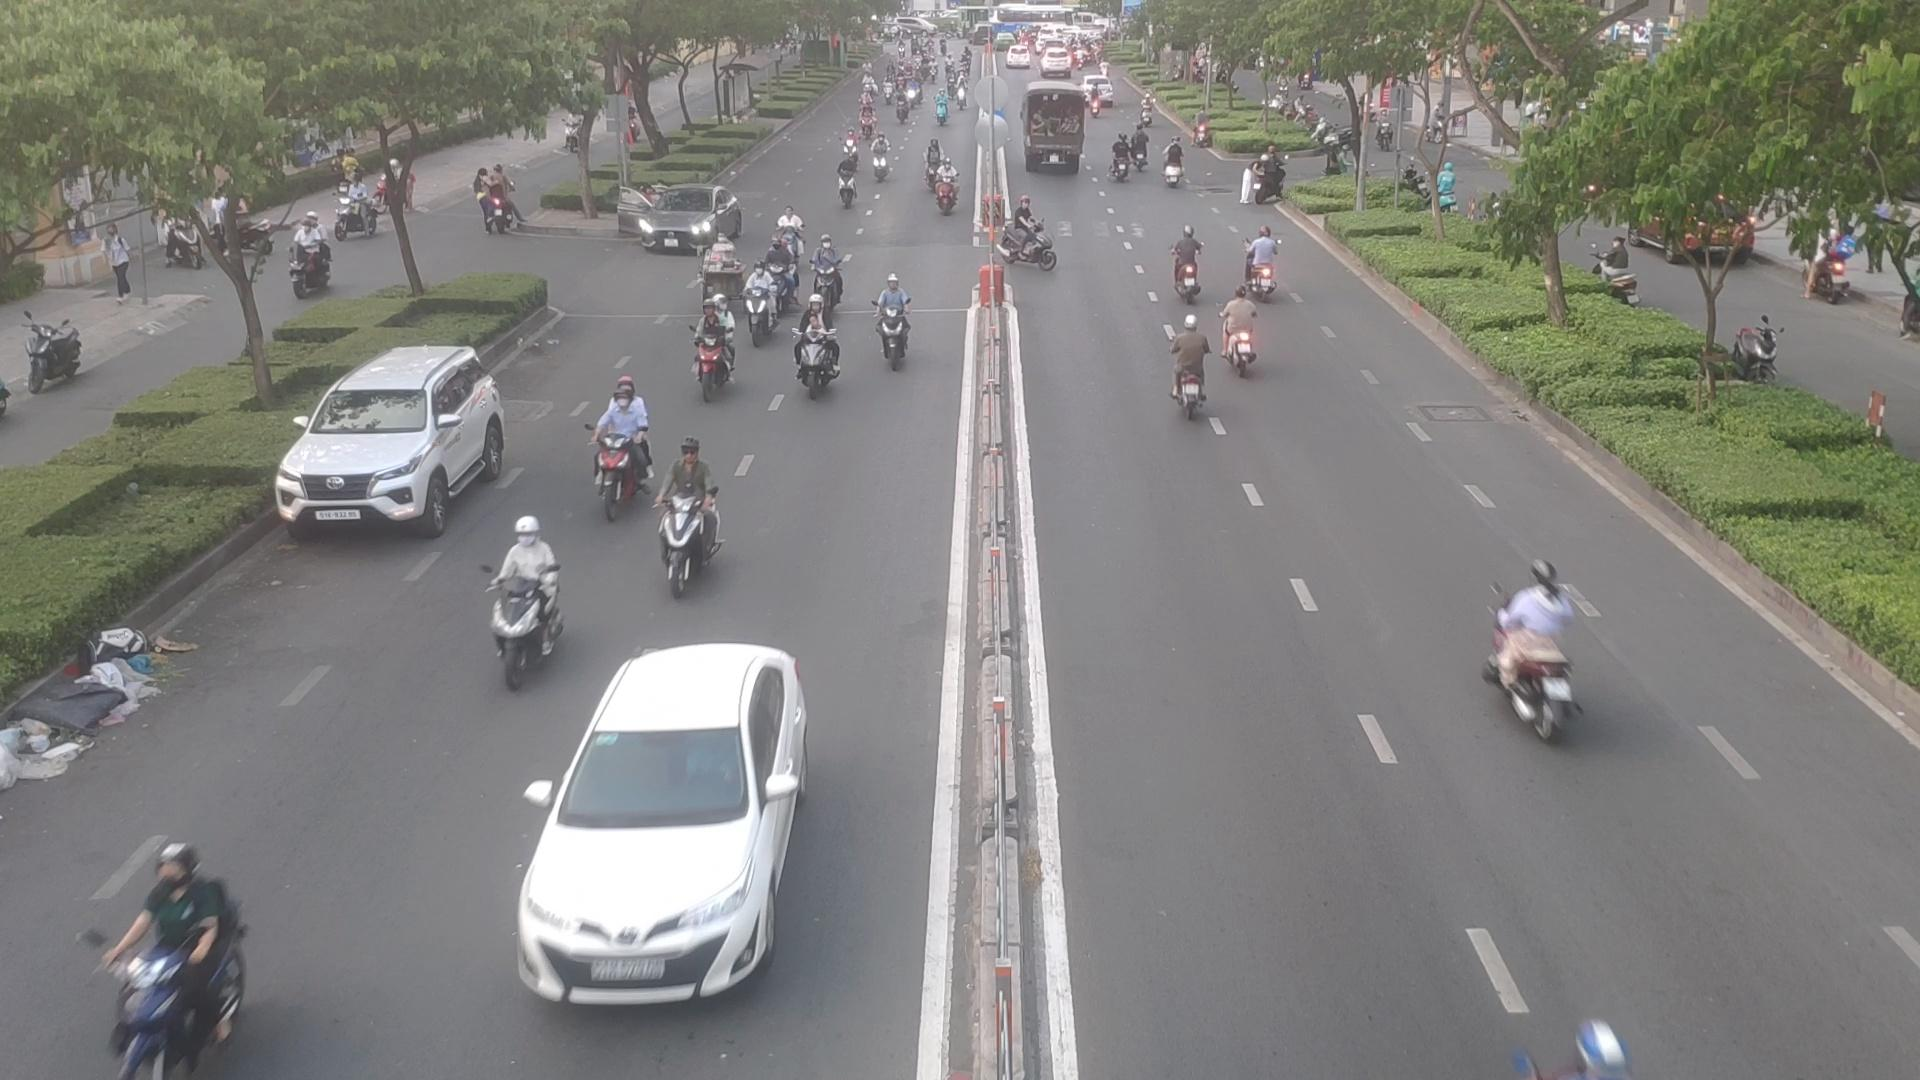car: (514, 647, 810, 1007), (274, 345, 512, 535), (622, 189, 738, 258)
motorbike: (99, 840, 255, 1080), (1499, 554, 1584, 724), (493, 520, 556, 670), (666, 427, 721, 589), (585, 384, 646, 512), (994, 191, 1059, 270), (686, 290, 735, 393), (1171, 316, 1220, 419), (872, 266, 920, 367), (1217, 280, 1259, 378), (790, 330, 841, 400), (1244, 219, 1280, 306), (1168, 224, 1211, 299), (818, 229, 843, 330), (934, 152, 967, 214), (742, 260, 769, 334), (837, 146, 861, 200), (1113, 131, 1134, 190), (1166, 138, 1189, 190), (873, 127, 894, 179)
